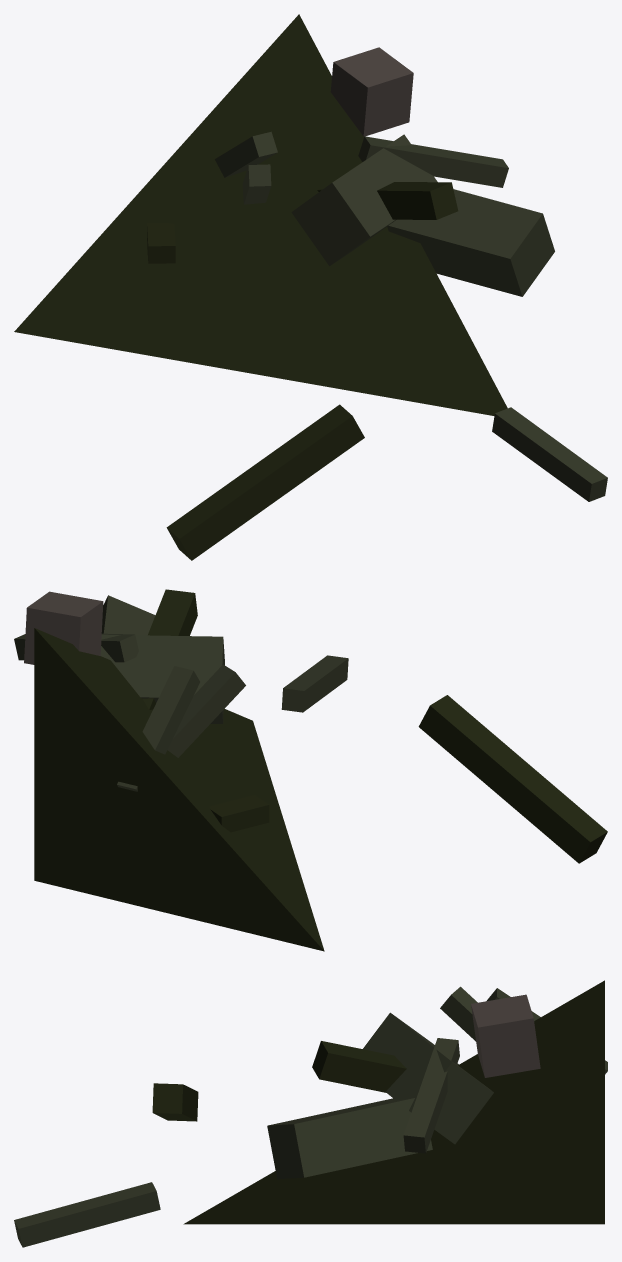
Rendered from SM_PilaZombi_RemateIzq_Altura1_s0_LOD0.fbx.
3 renders of one model, top to bottom at view 1: azimuth 30°, elevation 25°; view 2: azimuth 150°, elevation 25°; view 3: azimuth 270°, elevation 25°, orthographic. The views are drawn at different scales.
Visible parts, largest first — view 1: SM_pila_zombis_v0_LOD0; view 2: SM_pila_zombis_v0_LOD0; view 3: SM_pila_zombis_v0_LOD0.
Part boxes in pixels (left/top/right/bottom): SM_pila_zombis_v0_LOD0: left=14, top=14, right=607, bottom=560; SM_pila_zombis_v0_LOD0: left=14, top=589, right=607, bottom=951; SM_pila_zombis_v0_LOD0: left=14, top=980, right=607, bottom=1247.
Bounding box in the file's own units: 1.91 × 1.22 × 2.2.
